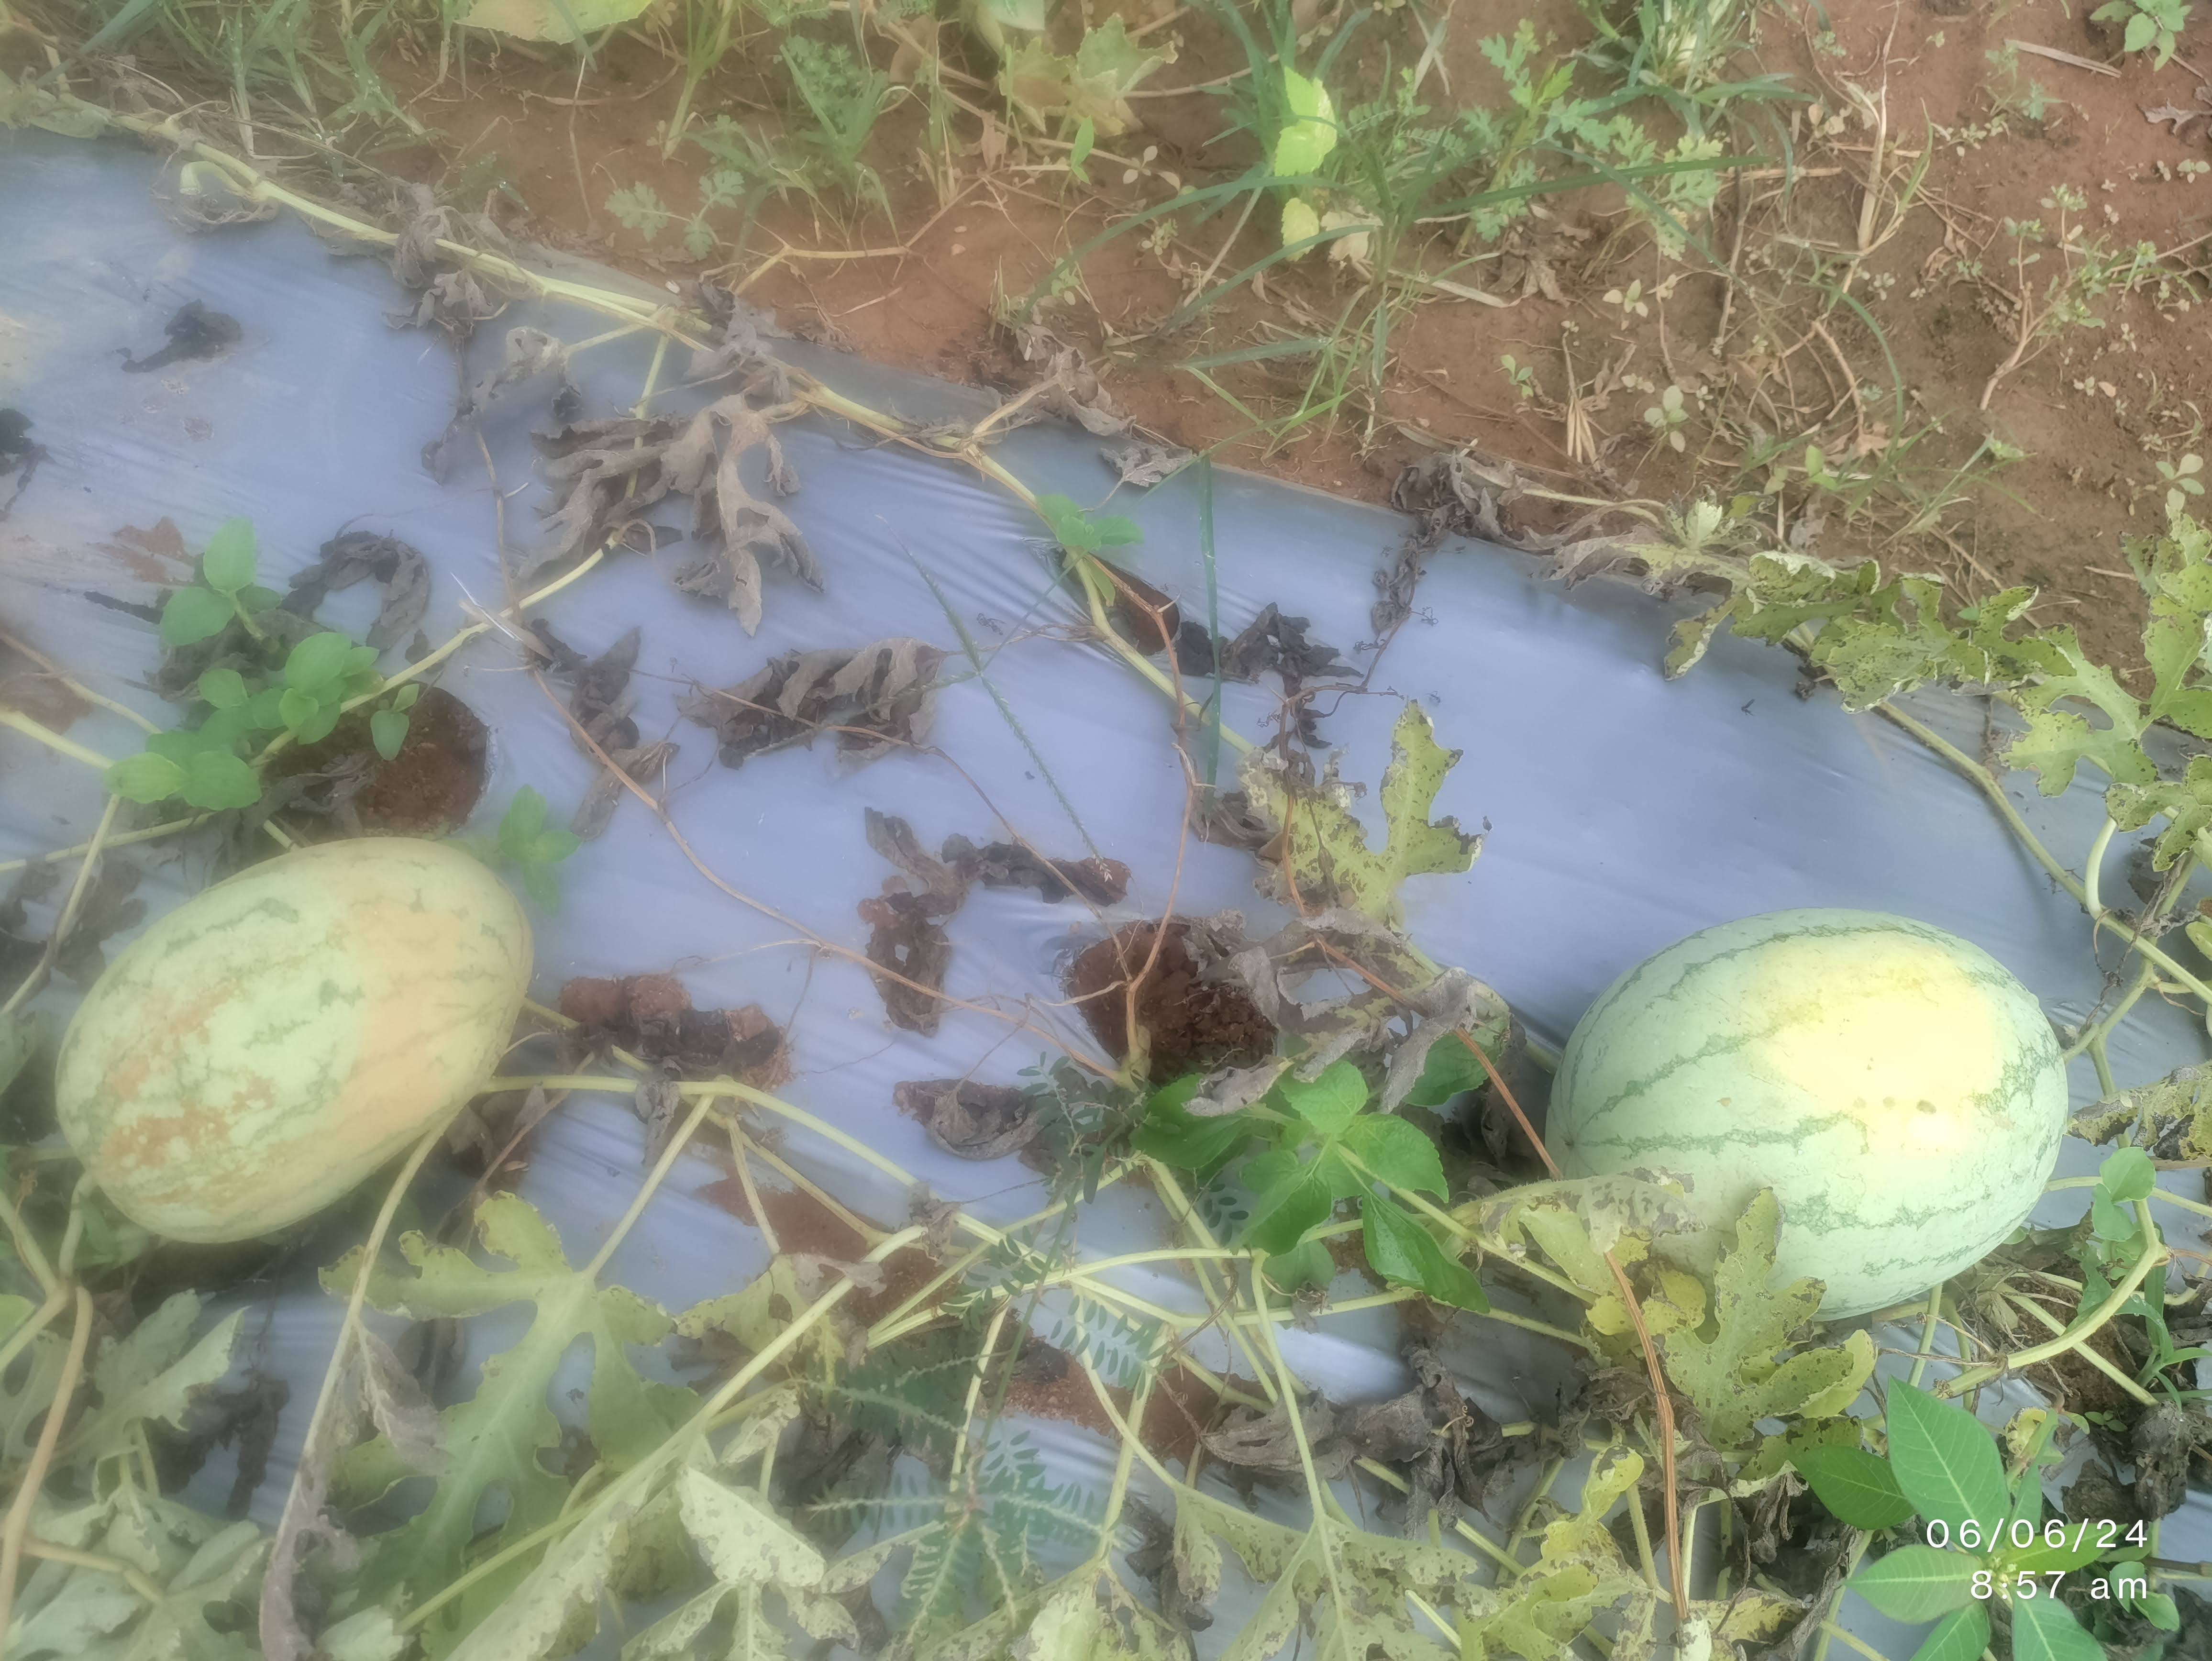good-to-harvest: (1542, 902, 2100, 1296)
not-good-to-harvest: (24, 785, 577, 1251)
